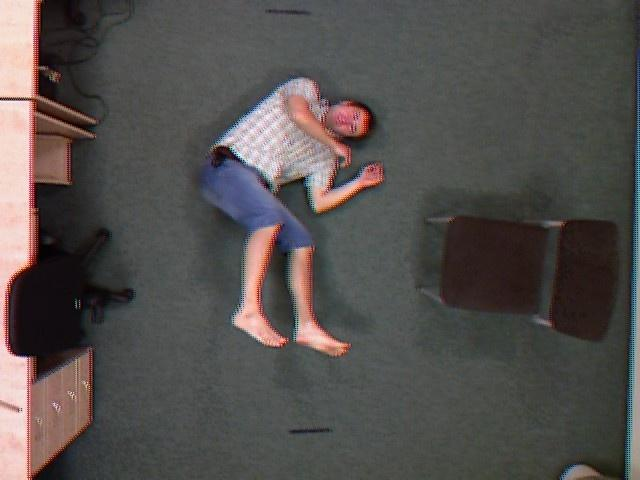fall: (186, 71, 395, 361)
